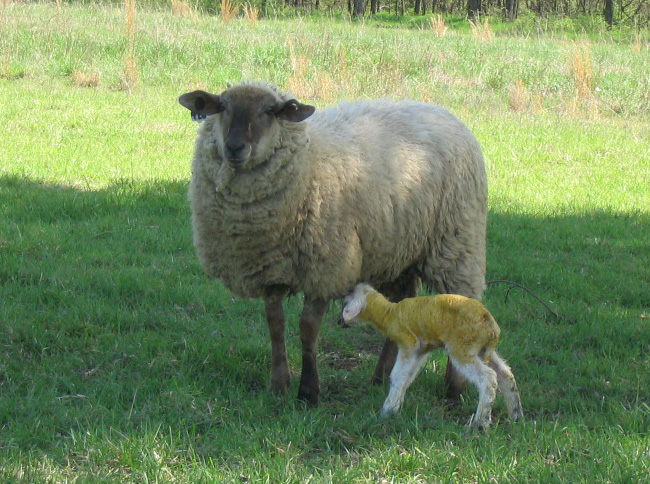sheep: (177, 80, 494, 419), (340, 282, 532, 431)
